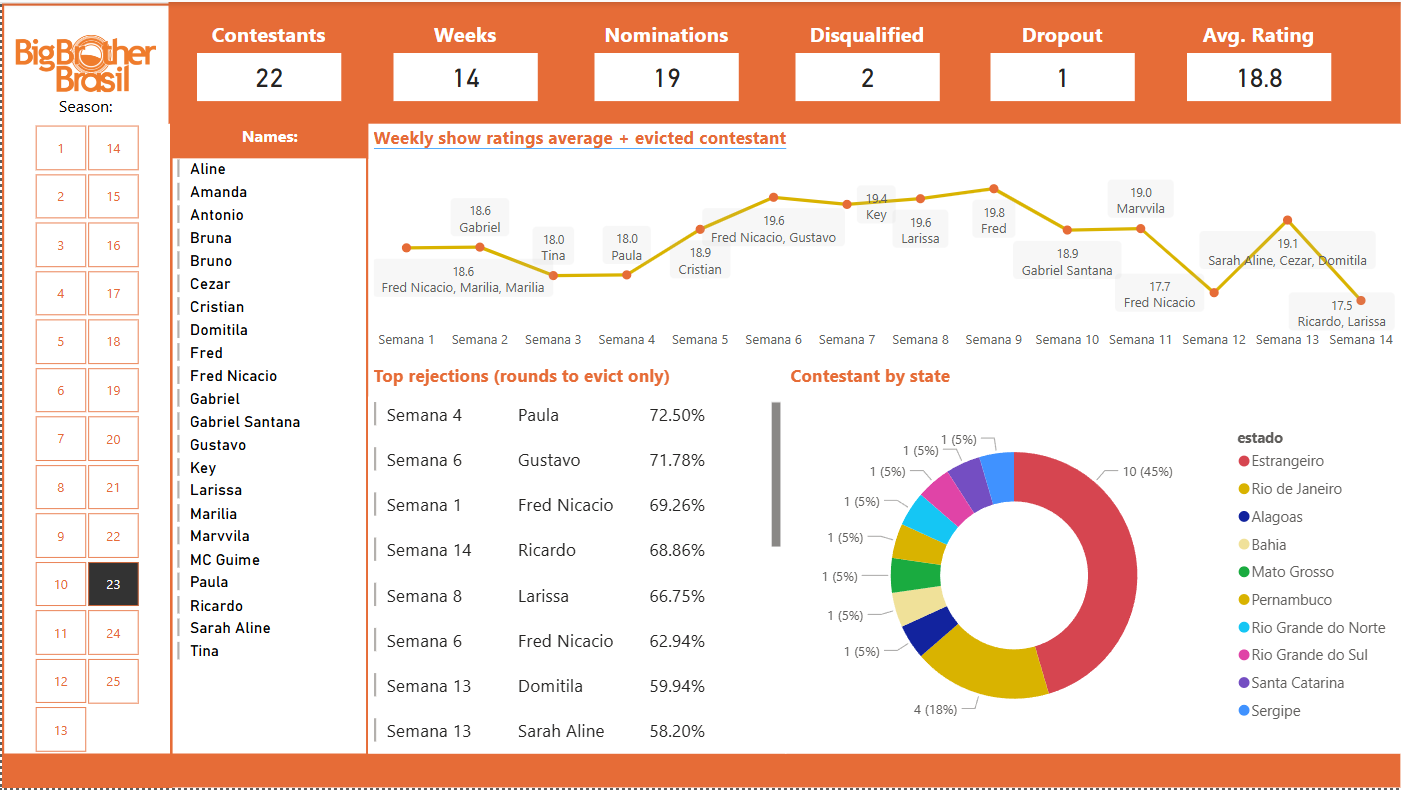

The dashboard page shown, as its layout file describes it:
{"tool":"powerbi","page":{"name":"Page 1","canvas":[1280,720],"ordinal":0},"visuals":[{"type":"lineChart","fields":{"Category":["dm_nom_desc.semana"],"Y":["Count(dm_nom_desc.edicao)"]},"box":[334.5,143.6,944.9,179.5],"z":0},{"type":"lineChart","fields":{"Y":["Avg(dm_ratings.pontos)"],"Category":["dm_nom_desc.semana"]},"box":[334.6,145.4,946.1,181.2],"z":1000},{"type":"shape","box":[0,1.6,156.3,718.4],"z":2000},{"type":"card","title":"Number of Contestants","fields":{"Values":["Count(dm_nom_desc.semana)"]},"box":[358,47.4,131.7,43.9],"z":2000,"group":"g5"},{"type":"textbox","box":[358.3,11.1,131.1,39.5],"z":3000,"group":"g5"},{"type":"shape","box":[153.2,107.4,181.6,596.8],"z":3000},{"type":"shape","box":[152.9,0,1127.1,111.4],"z":4000},{"type":"image","box":[0,0,152.9,112.1],"z":5000},{"type":"slicer","fields":{"Values":["dm_nom_desc.edicao"]},"box":[10,111.1,134.4,576.7],"z":6000},{"type":"card","title":"Number of Contestants","fields":{"Values":["Count(dm_nom_desc.id_paredao)"]},"box":[542.1,47.4,131.7,43.9],"z":7000,"group":"g4"},{"type":"shape","box":[0,687.9,1279.4,32.1],"z":7000},{"type":"textbox","box":[536.9,11.1,142.1,39.5],"z":8000,"group":"g4"},{"type":"textbox","box":[0,78.9,153.2,39.5],"z":8000},{"type":"card","title":"Number of Contestants","fields":{"Values":["dm_nominations.Disqualified_blank"]},"box":[726.1,47.4,131.7,43.9],"z":9000,"group":"g3"},{"type":"multiRowCard","fields":{"Values":["dm_contestants.alias"]},"box":[154.4,143.8,156,560.3],"z":9000},{"type":"textbox","box":[726.4,11.1,131.1,39.5],"z":10000,"group":"g3"},{"type":"textbox","box":[154.7,107.4,180,36.3],"z":10000},{"type":"group","id":"g1","title":"Group 1","box":[1084.4,11.1,131.7,80.2],"z":11000},{"type":"card","title":"Number of Contestants","fields":{"Values":["dm_nominations.Dropout_blank"]},"box":[905.4,47.4,131.7,43.9],"z":11000,"group":"g2"},{"type":"group","id":"g2","title":"Group 2","box":[905,11.1,132.2,80.2],"z":12000},{"type":"textbox","box":[905,11.1,131.1,39.5],"z":12000,"group":"g2"},{"type":"group","id":"g3","title":"Group 3","box":[726.1,11.1,131.7,80.2],"z":13000},{"type":"card","title":"Number of Contestants","fields":{"Values":["dm_ratings.rating_blank"]},"box":[1084.4,47.4,131.7,43.9],"z":13000,"group":"g1"},{"type":"group","id":"g4","title":"Group 4","box":[536.9,11.1,142.1,80.2],"z":14000},{"type":"textbox","box":[1084.8,11.1,131.1,39.5],"z":14000,"group":"g1"},{"type":"group","id":"g5","title":"Group 5","box":[358,11.1,131.7,80.2],"z":15000},{"type":"card","title":"Number of Contestants","fields":{"Values":["Count(dm_contestants.id_participante)"]},"box":[179.1,47.4,131.7,43.9],"z":15000,"group":"g6"},{"type":"group","id":"g6","title":"Group 6","box":[179.1,11.1,131.7,80.2],"z":16000},{"type":"textbox","box":[179.4,11.1,131.1,39.5],"z":16000,"group":"g6"},{"type":"textbox","box":[334.7,107.4,611.1,36.3],"z":17000},{"type":"multiRowCard","fields":{"Values":["dm_nominations.semana","dm_nominations.participante","Min(dm_nominations.%_number)"]},"box":[334.6,360.5,382.4,326.6],"z":18000},{"type":"textbox","box":[334.6,324.7,611.5,35.9],"z":19000},{"type":"donutChart","fields":{"Y":["CountNonNull(fact_contestants.id_participante)"],"Category":["dm_contestants.estado"]},"box":[716.9,361.6,563.7,326.8],"z":20000},{"type":"textbox","box":[716.9,325.3,563.7,36.3],"z":21000}]}

Visuals, with their boxes in screenshot pixels (x1, y1, x2, y2), scaled from the page's 1280x720 canvas onto the 1401x790 screenshot:
lineChart - dm_nom_desc.semana x Count(dm_nom_desc.edicao): [left=366, top=158, right=1400, bottom=355]
lineChart - Avg(dm_ratings.pontos) x dm_nom_desc.semana: [left=366, top=160, right=1400, bottom=358]
shape: [left=0, top=2, right=171, bottom=789]
"Number of Contestants" card: [left=392, top=52, right=536, bottom=100]
textbox: [left=392, top=12, right=536, bottom=56]
shape: [left=168, top=118, right=366, bottom=773]
shape: [left=167, top=0, right=1400, bottom=122]
image: [left=0, top=0, right=167, bottom=123]
slicer - dm_nom_desc.edicao: [left=11, top=122, right=158, bottom=755]
"Number of Contestants" card: [left=593, top=52, right=737, bottom=100]
shape: [left=0, top=755, right=1400, bottom=789]
textbox: [left=588, top=12, right=743, bottom=56]
textbox: [left=0, top=87, right=168, bottom=130]
"Number of Contestants" card: [left=795, top=52, right=939, bottom=100]
multiRowCard - dm_contestants.alias: [left=169, top=158, right=340, bottom=773]
textbox: [left=795, top=12, right=939, bottom=56]
textbox: [left=169, top=118, right=366, bottom=158]
"Group 1" group: [left=1187, top=12, right=1331, bottom=100]
"Number of Contestants" card: [left=991, top=52, right=1135, bottom=100]
"Group 2" group: [left=991, top=12, right=1135, bottom=100]
textbox: [left=991, top=12, right=1134, bottom=56]
"Group 3" group: [left=795, top=12, right=939, bottom=100]
"Number of Contestants" card: [left=1187, top=52, right=1331, bottom=100]
"Group 4" group: [left=588, top=12, right=743, bottom=100]
textbox: [left=1187, top=12, right=1331, bottom=56]
"Group 5" group: [left=392, top=12, right=536, bottom=100]
"Number of Contestants" card: [left=196, top=52, right=340, bottom=100]
"Group 6" group: [left=196, top=12, right=340, bottom=100]
textbox: [left=196, top=12, right=340, bottom=56]
textbox: [left=366, top=118, right=1035, bottom=158]
multiRowCard - dm_nominations.semana x dm_nominations.participante: [left=366, top=396, right=785, bottom=754]
textbox: [left=366, top=356, right=1036, bottom=396]
donutChart - CountNonNull(fact_contestants.id_participante) x dm_contestants.estado: [left=785, top=397, right=1400, bottom=755]
textbox: [left=785, top=357, right=1400, bottom=397]
